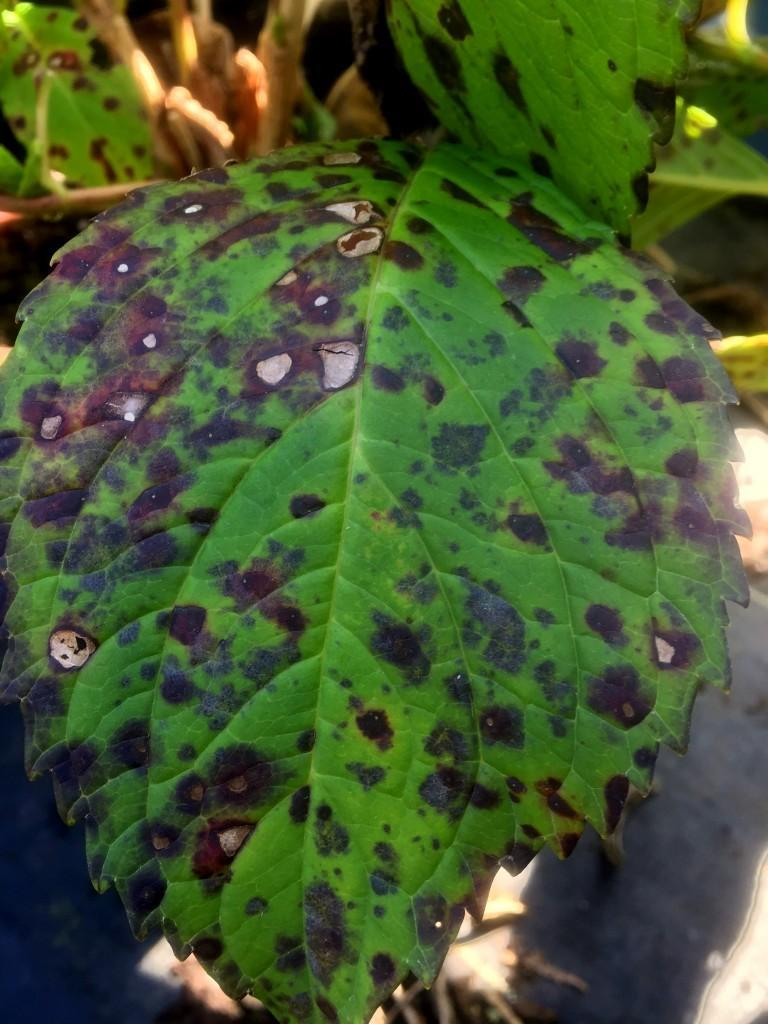black-spot: (372, 345, 624, 775)
